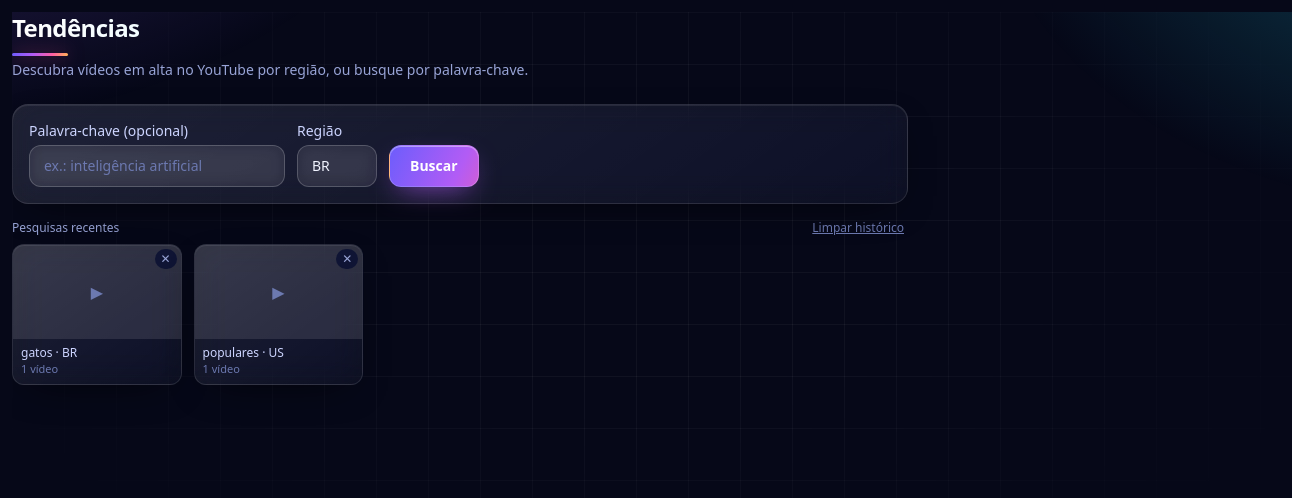
Test: TrendsPage › exclusão de pesquisas › exclui uma pesquisa do histórico e some da lista
The image size is (1292, 498).
Click the button named "Excluir pesquisa gatos · BR".
click(166, 259)  # box 154,249 -> 177,269
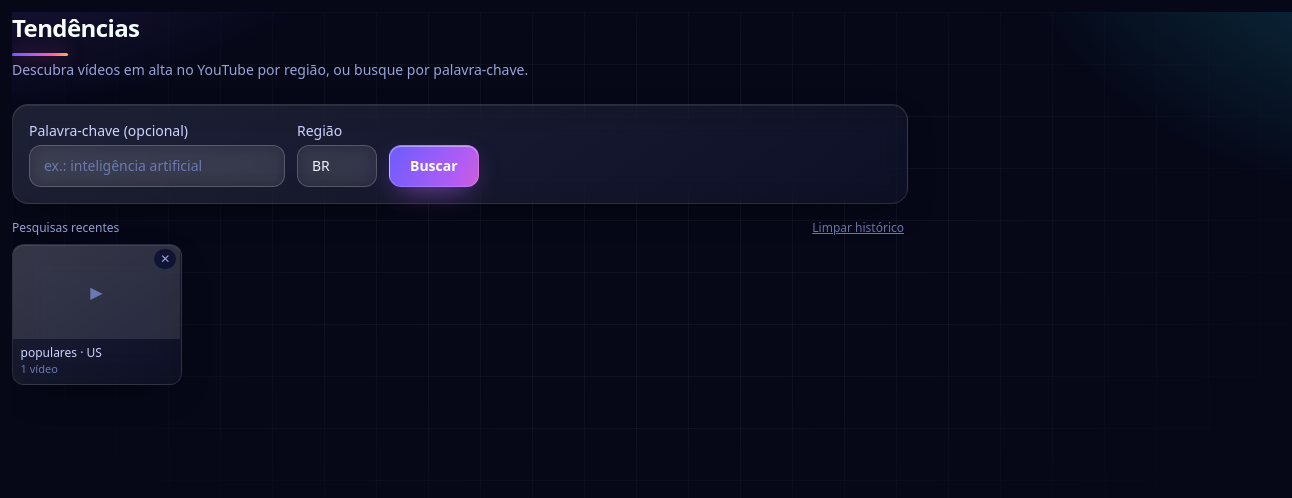
Expected: the button "▶ populares · US" is shown, 13,245 -> 181,361
Expected: the button "gatos · BR" is gone
